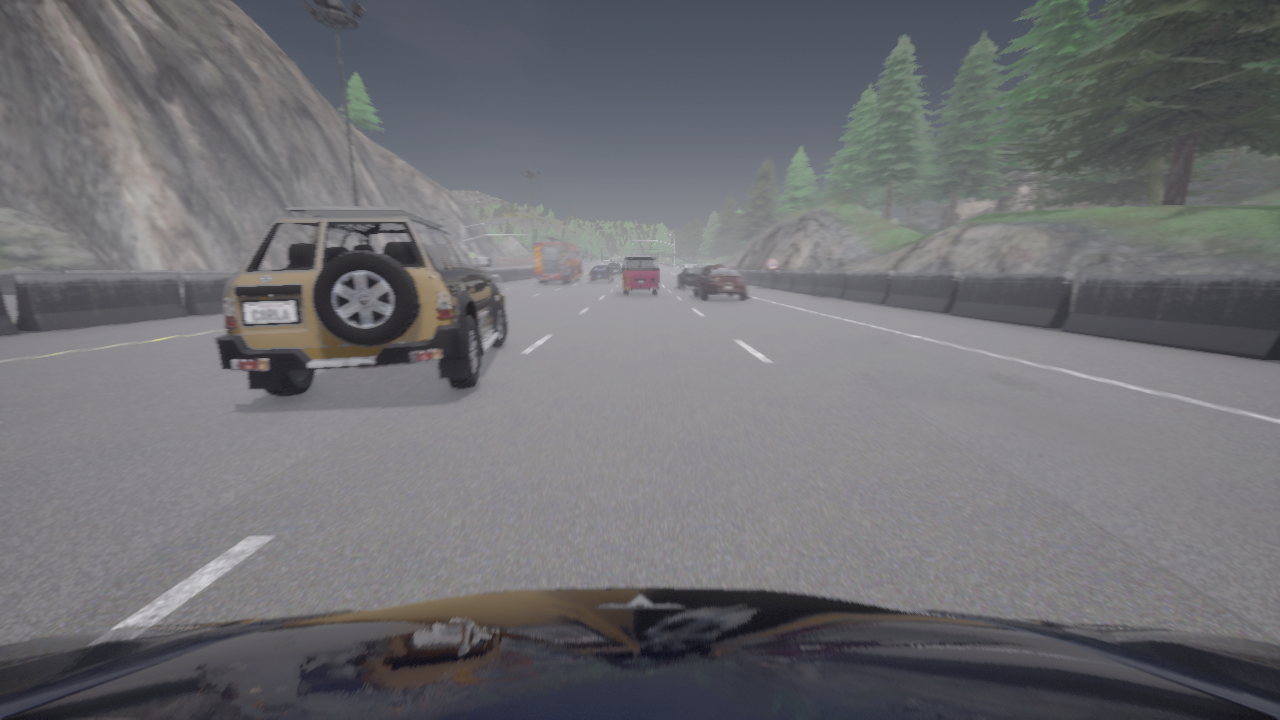cyclist: (0, 588, 1279, 719), (216, 207, 506, 396), (533, 236, 582, 283), (692, 265, 748, 300), (622, 255, 658, 295), (678, 269, 703, 289), (589, 266, 613, 282), (608, 264, 621, 275)
